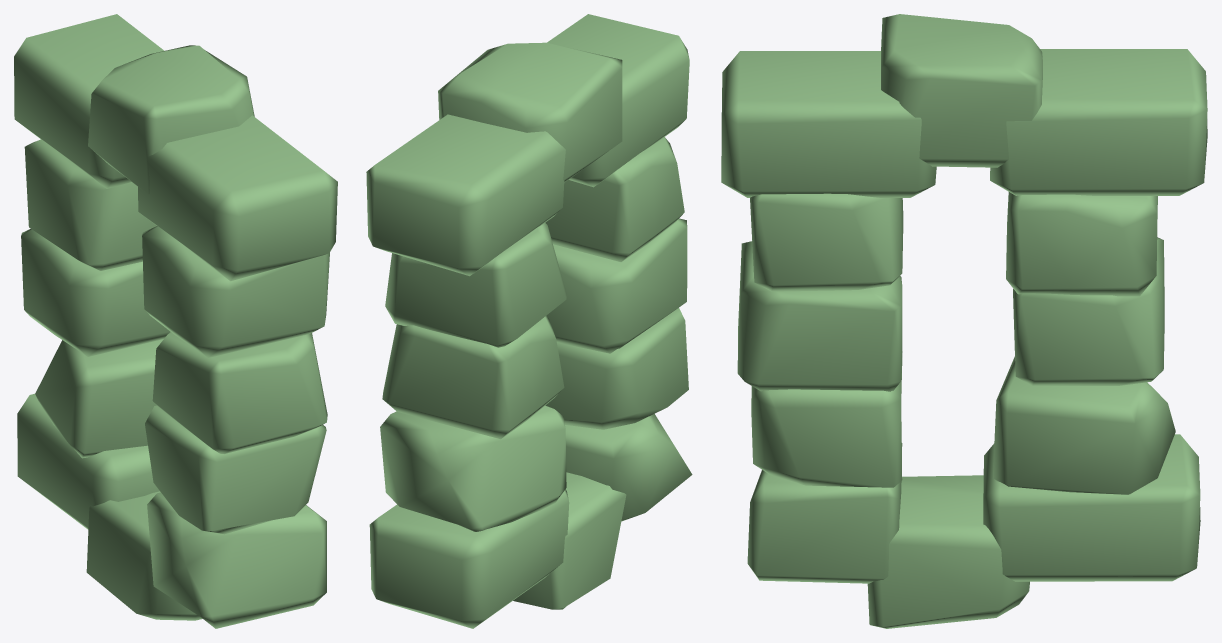
The model's file is Stone_Window_01_Lod0.fbx.
3 renders of one model, left to right at view 1: azimuth 30°, elevation 25°; view 2: azimuth 150°, elevation 25°; view 3: azimuth 270°, elevation 25°, orthographic. The views are drawn at different scales.
Parts seen in each view (by area): view 1: Stone_Window_01_Lod0; view 2: Stone_Window_01_Lod0; view 3: Stone_Window_01_Lod0.
Boxes of the visible parts, x1,y1,x2,y2 form: Stone_Window_01_Lod0: (14, 14, 337, 628); Stone_Window_01_Lod0: (366, 14, 692, 628); Stone_Window_01_Lod0: (721, 14, 1207, 628).
Size of the model in its own units: 41.9 by 149 by 117.
